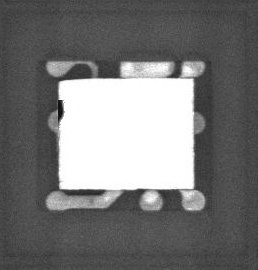DIE_BROKEN: (55, 97, 66, 124)
